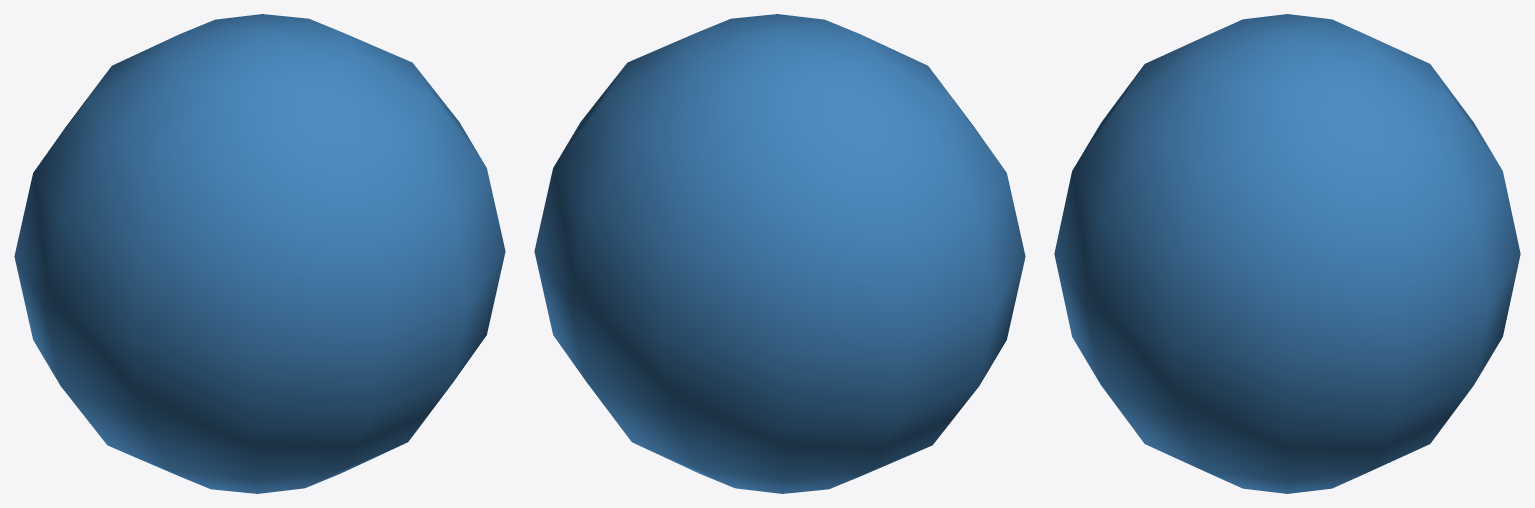
File: states.glb
The picture shows the model from 3 angles, left to right: view 1: azimuth 30°, elevation 25°; view 2: azimuth 150°, elevation 25°; view 3: azimuth 270°, elevation 25°; orthographic projection.
Visible parts, largest first — view 1: sample.mesh; view 2: sample.mesh; view 3: sample.mesh.
Boxes of the visible parts, bbox=[...] form: sample.mesh: bbox=[14, 14, 505, 493]; sample.mesh: bbox=[534, 14, 1025, 493]; sample.mesh: bbox=[1054, 14, 1520, 493].
Size of the model in its own units: 2.17 by 2.1 by 2.05.
